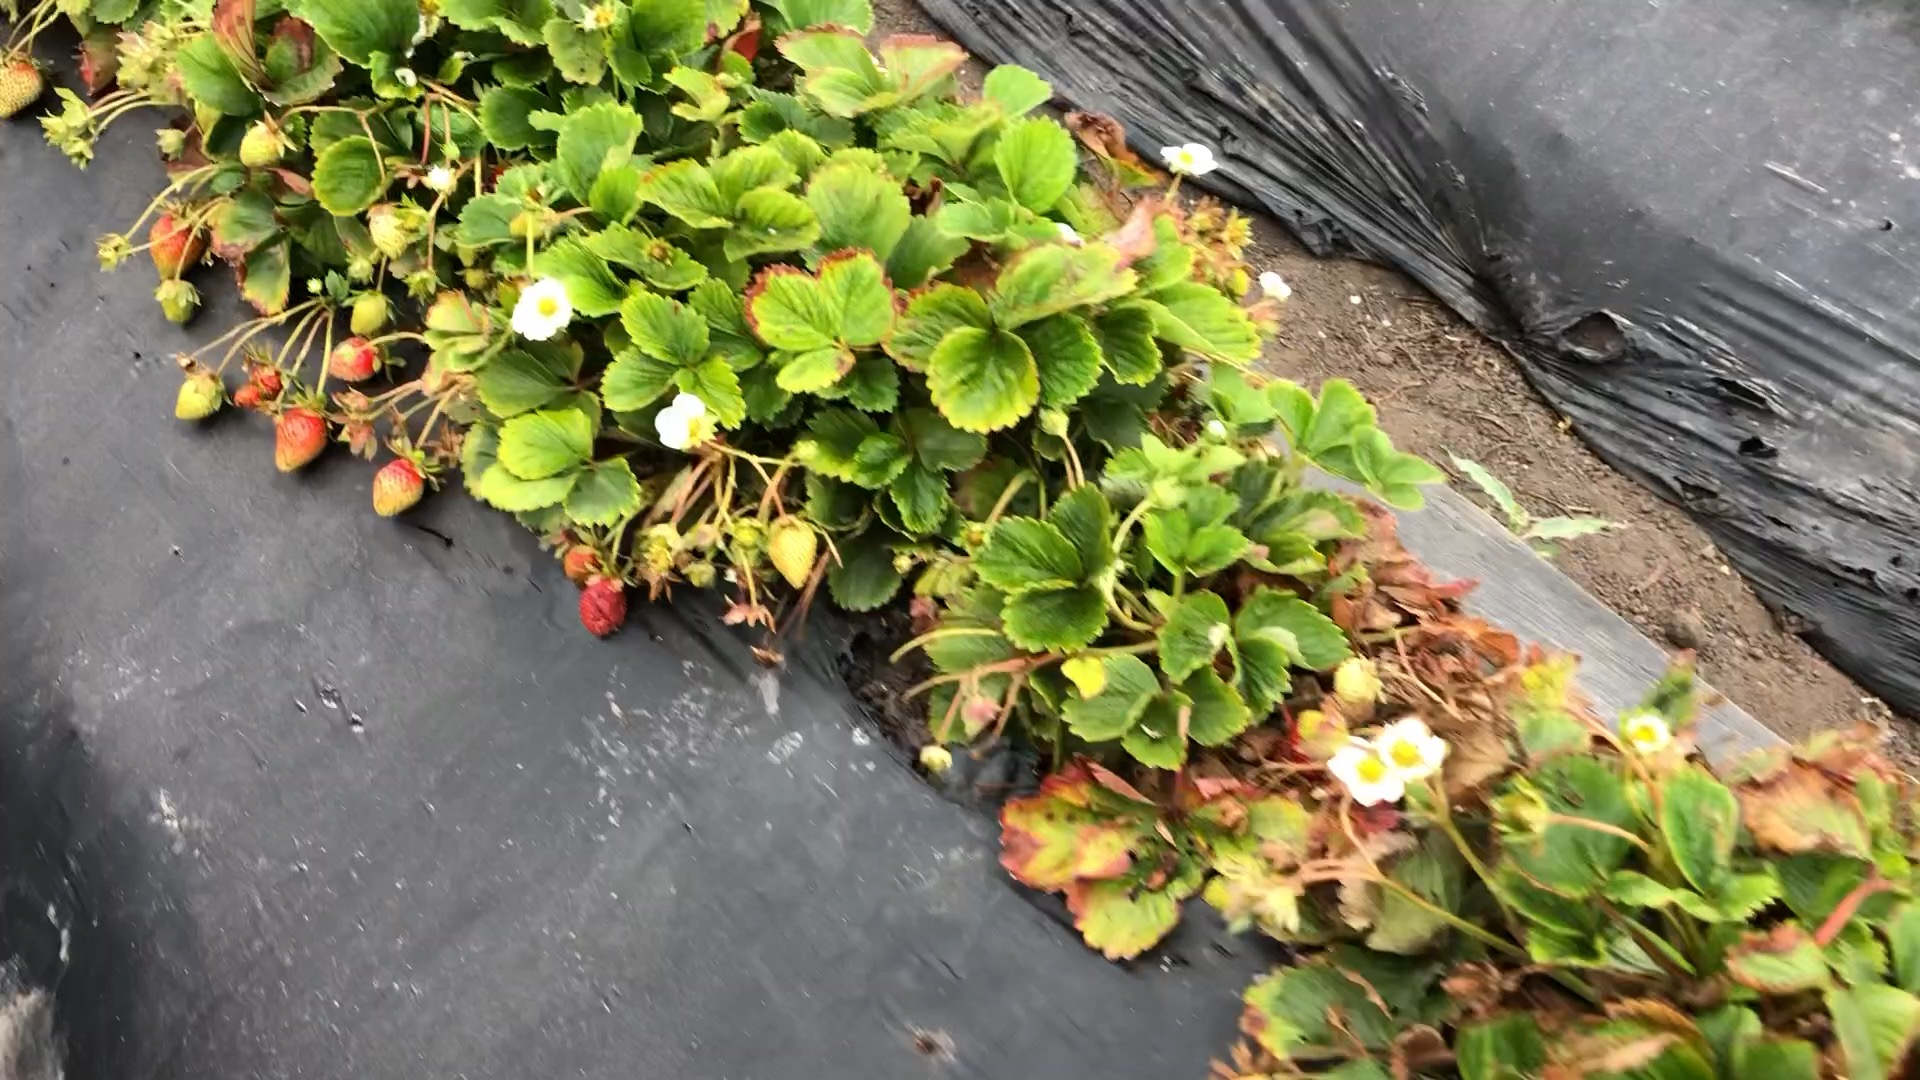ripe_strawberry: (576, 568, 633, 642)
unripe_strawberry: (146, 204, 211, 282), (270, 401, 334, 477), (371, 448, 430, 521), (767, 514, 822, 593), (1, 51, 51, 123), (322, 335, 382, 384), (171, 371, 225, 425), (237, 120, 287, 171), (154, 277, 200, 328), (348, 290, 390, 339)
